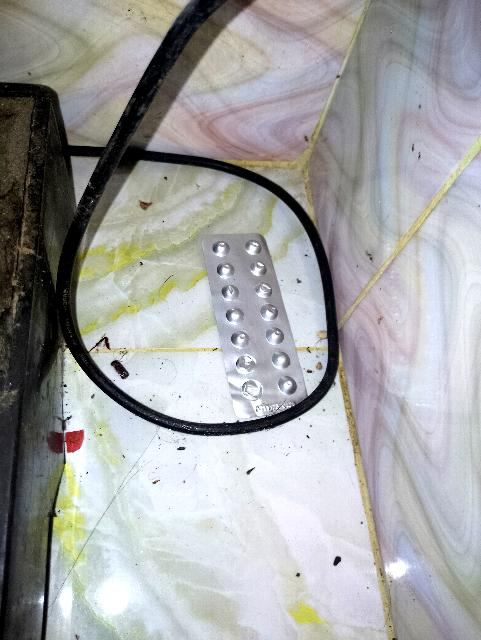medicine: (188, 210, 317, 432)
